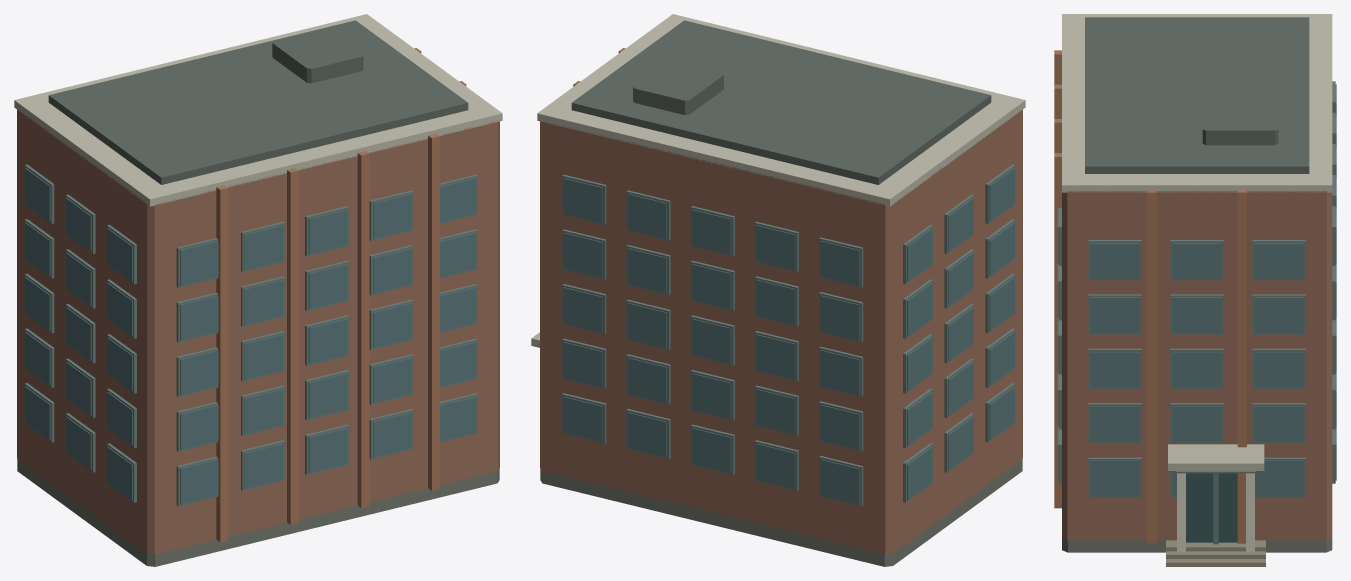
The picture shows the model from 3 angles, left to right: view 1: azimuth 30°, elevation 25°; view 2: azimuth 150°, elevation 25°; view 3: azimuth 270°, elevation 25°; orthographic projection.
Visible parts, largest first — view 1: form, glaze, relief, glowing; view 2: form, glaze, relief, glowing; view 3: form, glaze, relief, glowing.
Boxes of the visible parts, x1,y1,x2,y2 form: form: (14, 14, 502, 566); glaze: (25, 168, 476, 504); relief: (24, 164, 477, 506); glowing: (107, 319, 347, 390); form: (531, 14, 1025, 566); glaze: (563, 168, 1014, 504); relief: (562, 164, 1015, 506); glowing: (692, 277, 1014, 363); form: (1054, 14, 1332, 566); glaze: (1057, 84, 1336, 542); relief: (1058, 81, 1335, 551); glowing: (1254, 352, 1303, 387).
Size of the model in its own units: 13.54 by 12.71 by 8.35.
